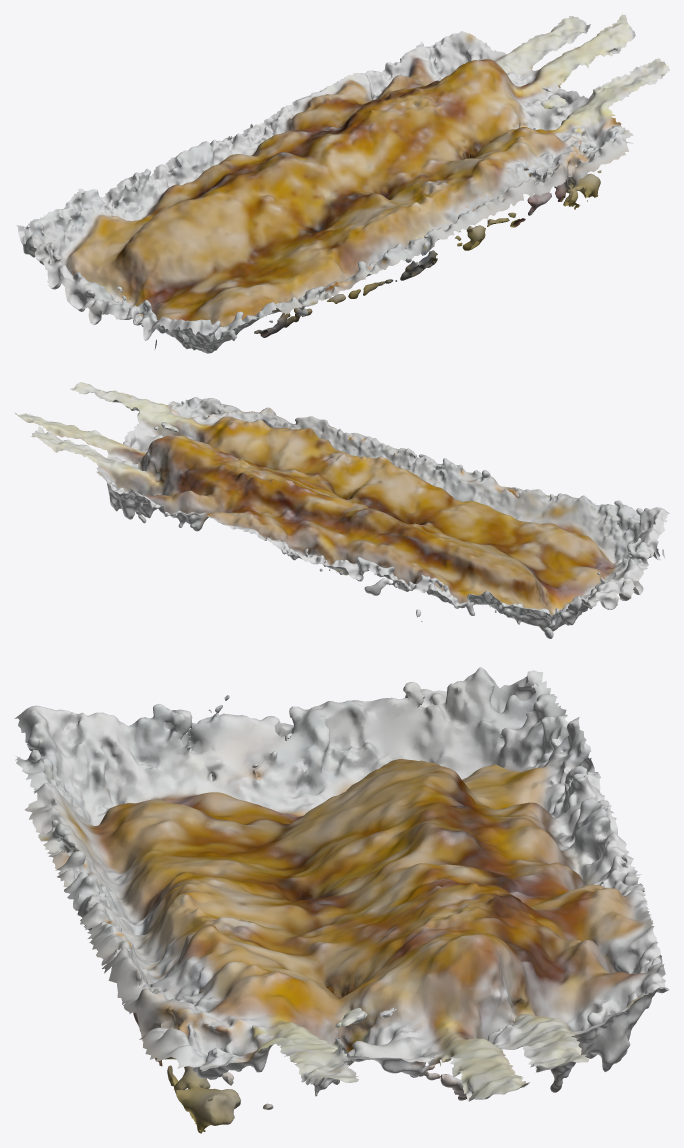
Rendered from dakggochi.glb.
The picture shows the model from 3 angles, top to bottom: view 1: azimuth 30°, elevation 25°; view 2: azimuth 150°, elevation 25°; view 3: azimuth 270°, elevation 25°; orthographic projection. The views are drawn at different scales.
Parts seen in each view (by area): view 1: Model; view 2: Model; view 3: Model.
Boxes of the visible parts, box(x1,y1,x2,y2) form: Model: box(16, 14, 669, 353); Model: box(14, 382, 669, 638); Model: box(14, 667, 669, 1133).
Bounding box in the file's own units: 7.95 × 1.55 × 4.09.
